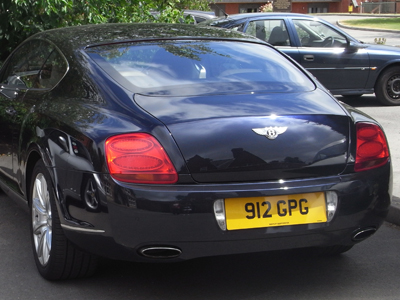licencePlate: (226, 192, 328, 231)
